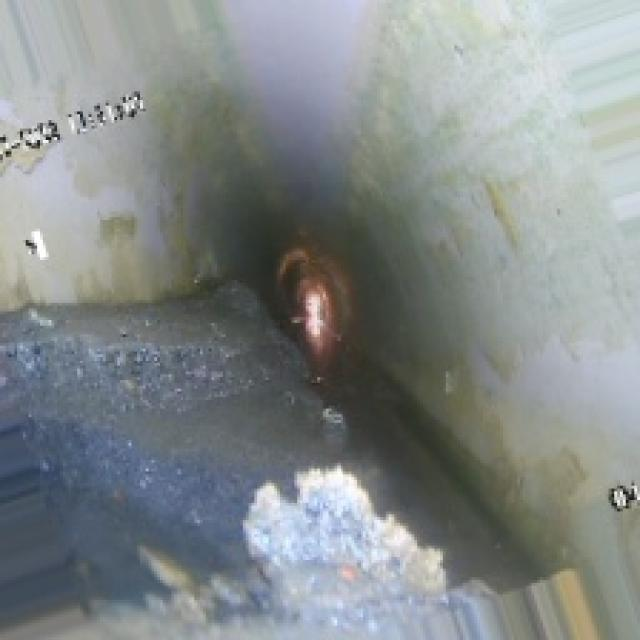sluge accumulation: (29, 314, 457, 626)
